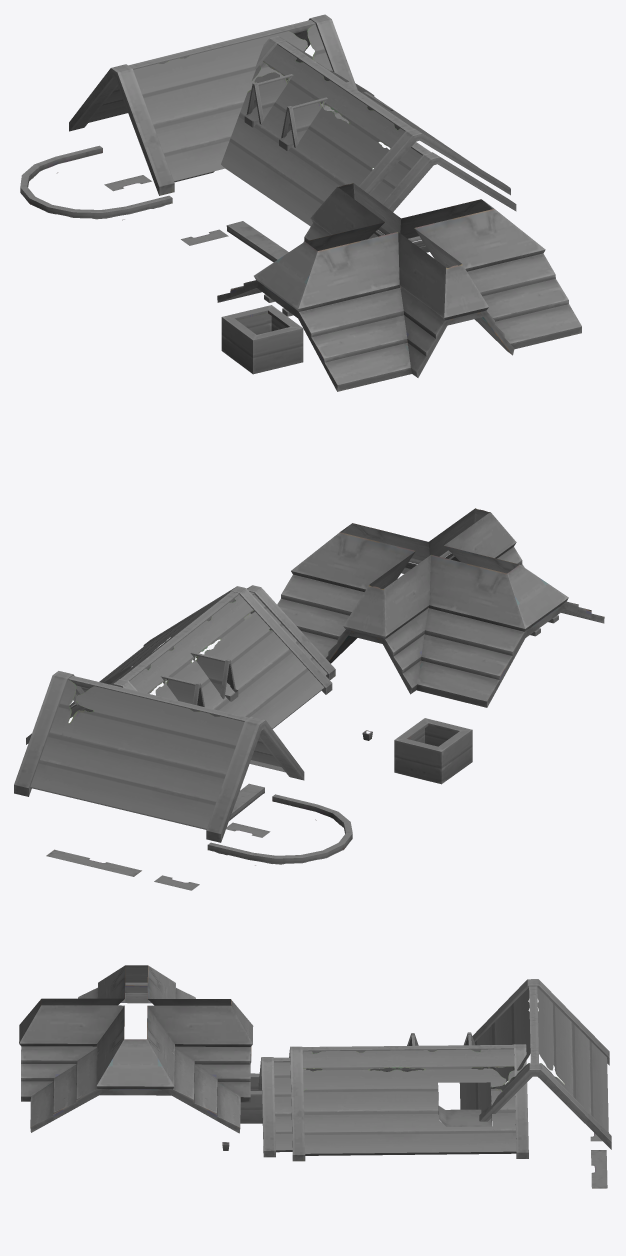
Rendered from pref_sm_garden_house_vertexcolor03_lv2.fbx.
3 renders of one model, top to bottom at view 1: azimuth 30°, elevation 25°; view 2: azimuth 150°, elevation 25°; view 3: azimuth 270°, elevation 25°, orthographic. The views are drawn at different scales.
Parts seen in each view (by area): view 1: sm_garden_house_vertexcolor03_lv2; view 2: sm_garden_house_vertexcolor03_lv2; view 3: sm_garden_house_vertexcolor03_lv2.
Boxes of the visible parts, x1=… form: sm_garden_house_vertexcolor03_lv2: x1=20, y1=14, x2=581, y2=391; sm_garden_house_vertexcolor03_lv2: x1=14, y1=508, x2=604, y2=890; sm_garden_house_vertexcolor03_lv2: x1=19, y1=965, x2=611, y2=1188.
Bounding box in the file's own units: 11.69 × 6.27 × 19.86.
Materials: 1 (1 with a texture image).
